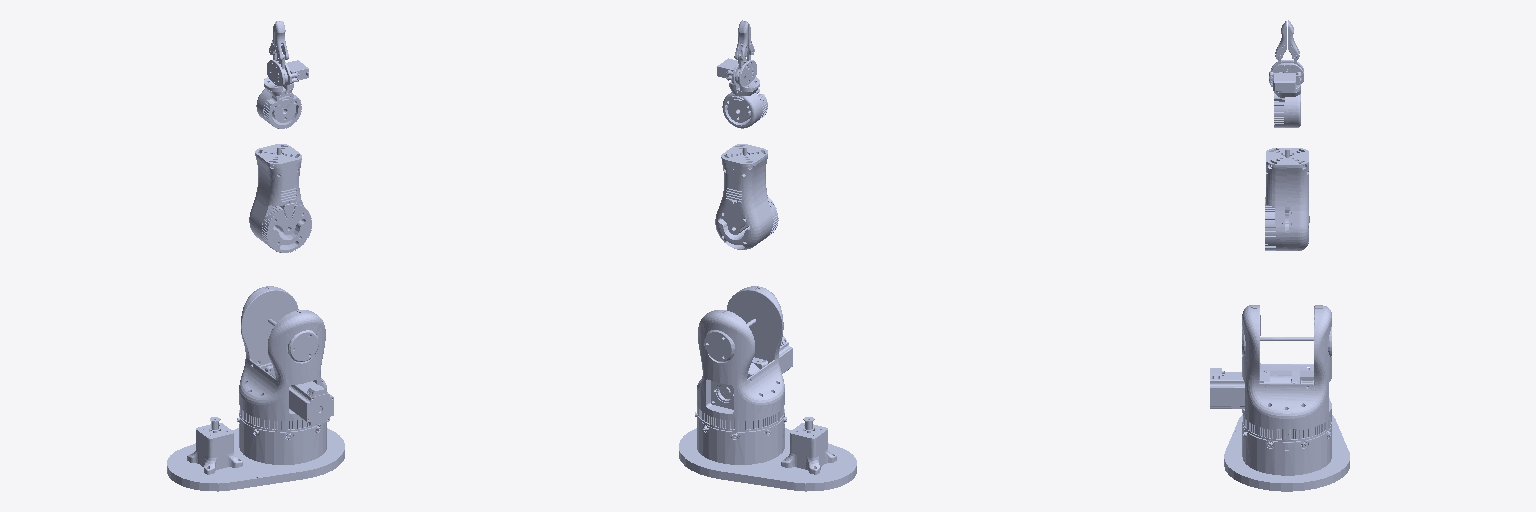
The robot description file, URDF, robot "urdf_v4":
<?xml version="1.0" encoding="utf-8" ?>
<!-- This URDF was automatically created by SolidWorks to URDF Exporter! Originally created by [author] ([email redacted]) 
     Commit Version: 1.6.0-4-g7f85cfe  Build Version: 1.6.7995.38578
     For more information, please see http://wiki.ros.org/sw_urdf_exporter -->
<robot name="urdf_v4">
    <link name="base_link">
        <inertial>
            <origin xyz="-0.0435393633147196 1.22538169028963E-05 0.0288009133501953" rpy="0 0 0" />
            <mass value="0" />
            <inertia ixx="0.00557261131322256" ixy="1.30566290520133E-06" ixz="-0.0005394752363291" iyy="0.0133501948737187" iyz="4.50573008478812E-07" izz="0.0165394809238565" />
        </inertial>
        <visual>
            <origin xyz="0 0 0" rpy="0 0 0" />
            <geometry>
                <mesh filename="package://urdf_v4/meshes/base_link.STL" />
            </geometry>
            <material name="">
                <color rgba="0.792156862745098 0.819607843137255 0.933333333333333 1" />
            </material>
        </visual>
        <collision>
            <origin xyz="0 0 0" rpy="0 0 0" />
            <geometry>
                <mesh filename="package://urdf_v4/meshes/base_link.STL" />
            </geometry>
        </collision>
    </link>
    <link name="base">
        <inertial>
            <origin xyz="-3.6422061337249E-05 -0.0118679007139265 0.0827015228083971" rpy="0 0 0" />
            <mass value="0" />
            <inertia ixx="0.0136133851140564" ixy="4.81729455017446E-06" ixz="-8.59098005598292E-06" iyy="0.00966544956416382" iyz="-0.000408881345999403" izz="0.00889732541662392" />
        </inertial>
        <visual>
            <origin xyz="0 0 0" rpy="0 0 0" />
            <geometry>
                <mesh filename="package://urdf_v4/meshes/base.STL" />
            </geometry>
            <material name="">
                <color rgba="0.792156862745098 0.819607843137255 0.933333333333333 1" />
            </material>
        </visual>
        <collision>
            <origin xyz="0 0 0" rpy="0 0 0" />
            <geometry>
                <mesh filename="package://urdf_v4/meshes/base.STL" />
            </geometry>
        </collision>
    </link>
    <joint name="joint_1" type="continuous">
        <origin xyz="0 0 0.0805626889741612" rpy="0 0 -0.0137749399473416" />
        <parent link="base_link" />
        <child link="base" />
        <axis xyz="0 0 1" />
    </joint>
    <link name="shoulder">
        <inertial>
            <origin xyz="0.000114821633251661 0.00164617005672657 0.0799412995056059" rpy="0 0 0" />
            <mass value="0" />
            <inertia ixx="0.0170861143600446" ixy="3.41444124886183E-06" ixz="-5.13579918496999E-07" iyy="0.0162696160792994" iyz="-0.000123088013545128" izz="0.00359987375721594" />
        </inertial>
        <visual>
            <origin xyz="0 0 0" rpy="0 0 0" />
            <geometry>
                <mesh filename="package://urdf_v4/meshes/shoulder.STL" />
            </geometry>
            <material name="">
                <color rgba="0.792156862745098 0.819607843137255 0.933333333333333 1" />
            </material>
        </visual>
        <collision>
            <origin xyz="0 0 0" rpy="0 0 0" />
            <geometry>
                <mesh filename="package://urdf_v4/meshes/shoulder.STL" />
            </geometry>
        </collision>
    </link>
    <joint name="joint_2" type="continuous">
        <origin xyz="0 0 0.166937311025839" rpy="0 -0.0401786148125149 0" />
        <parent link="base" />
        <child link="shoulder" />
        <axis xyz="0 1 0" />
    </joint>
    <link name="elbow">
        <inertial>
            <origin xyz="-7.46045453986488E-05 -0.000200828897961525 0.0430510848285705" rpy="0 0 0" />
            <mass value="0" />
            <inertia ixx="0.00228138046770406" ixy="6.74965200477141E-08" ixz="-6.02495655393766E-07" iyy="0.00230093015725966" iyz="-3.06257161230913E-05" izz="0.000730693959243023" />
        </inertial>
        <visual>
            <origin xyz="0 0 0" rpy="0 0 0" />
            <geometry>
                <mesh filename="package://urdf_v4/meshes/elbow.STL" />
            </geometry>
            <material name="">
                <color rgba="0.792156862745098 0.819607843137255 0.933333333333333 1" />
            </material>
        </visual>
        <collision>
            <origin xyz="0 0 0" rpy="0 0 0" />
            <geometry>
                <mesh filename="package://urdf_v4/meshes/elbow.STL" />
            </geometry>
        </collision>
    </link>
    <joint name="joint_3" type="continuous">
        <origin xyz="0 0 0.221123792803564" rpy="0 0.0401786148125149 0" />
        <parent link="shoulder" />
        <child link="elbow" />
        <axis xyz="0 1 0" />
    </joint>
    <link name="wrist_1">
        <inertial>
            <origin xyz="0.000153325816812544 0.00254377162844671 0.0552077428933766" rpy="0 0 0" />
            <mass value="0" />
            <inertia ixx="0.00069858897414835" ixy="-1.06885826113012E-06" ixz="4.79930621864447E-06" iyy="0.000573509858053779" iyz="1.12101684178498E-05" izz="0.000348806651356732" />
        </inertial>
        <visual>
            <origin xyz="0 0 0" rpy="0 0 0" />
            <geometry>
                <mesh filename="package://urdf_v4/meshes/wrist_1.STL" />
            </geometry>
            <material name="">
                <color rgba="0.792156862745098 0.819607843137255 0.933333333333333 1" />
            </material>
        </visual>
        <collision>
            <origin xyz="0 0 0" rpy="0 0 0" />
            <geometry>
                <mesh filename="package://urdf_v4/meshes/wrist_1.STL" />
            </geometry>
        </collision>
    </link>
    <joint name="joint_4" type="continuous">
        <origin xyz="0 0.000500999999999752 0.129539254362443" rpy="0 0 0" />
        <parent link="elbow" />
        <child link="wrist_1" />
        <axis xyz="0 0 1" />
    </joint>
    <link name="wrist_2">
        <inertial>
            <origin xyz="1.77688284443978E-05 0.000385812686423792 0.00382819956222746" rpy="0 0 0" />
            <mass value="0" />
            <inertia ixx="8.93595780141302E-05" ixy="-2.61043353678366E-09" ixz="-6.69999126984611E-08" iyy="0.000106318526071324" iyz="-6.19881413590019E-07" izz="7.50977321539318E-05" />
        </inertial>
        <visual>
            <origin xyz="0 0 0" rpy="0 0 0" />
            <geometry>
                <mesh filename="package://urdf_v4/meshes/wrist_2.STL" />
            </geometry>
            <material name="">
                <color rgba="0.792156862745098 0.819607843137255 0.933333333333333 1" />
            </material>
        </visual>
        <collision>
            <origin xyz="0 0 0" rpy="0 0 0" />
            <geometry>
                <mesh filename="package://urdf_v4/meshes/wrist_2.STL" />
            </geometry>
        </collision>
    </link>
    <joint name="joint_5" type="continuous">
        <origin xyz="0 0 0.098961" rpy="0 0 0" />
        <parent link="wrist_1" />
        <child link="wrist_2" />
        <axis xyz="0 1 0" />
    </joint>
    <link name="gripper_base">
        <inertial>
            <origin xyz="0.0144248332652381 -0.00140943468206361 0.729409570686998" rpy="0 0 0" />
            <mass value="0" />
            <inertia ixx="2.24885107005276E-05" ixy="2.35779600509359E-06" ixz="-2.87441674029786E-06" iyy="3.18452559004708E-05" iyz="3.57683917662539E-07" izz="3.67649419263123E-05" />
        </inertial>
        <visual>
            <origin xyz="0 0 0" rpy="0 0 0" />
            <geometry>
                <mesh filename="package://urdf_v16/meshes/gripper_base.STL" />
            </geometry>
            <material name="">
                <color rgba="0.792156862745098 0.819607843137255 0.933333333333333 1" />
            </material>
        </visual>
        <collision>
            <origin xyz="0 0 0" rpy="0 0 0" />
            <geometry>
                <mesh filename="package://urdf_v16/meshes/gripper_base.STL" />
            </geometry>
        </collision>
    </link>
    <joint name="joint_6" type="fixed">
        <origin xyz="0.00098171 -0.000501 -0.66696" rpy="0 0 0" />
        <parent link="wrist_2" />
        <child link="gripper_base" />
        <axis xyz="0 0 0" />
    </joint>
    <link name="servo_gear1">
        <inertial>
            <origin xyz="-0.0100576763756515 -0.00793429336823925 -0.000922276940248268" rpy="0 0 0" />
            <mass value="0" />
            <inertia ixx="9.89317510651496E-07" ixy="1.98722680590235E-10" ixz="-7.64270919579872E-10" iyy="1.8900131850761E-07" iyz="4.23805101340853E-08" izz="8.26162926123892E-07" />
        </inertial>
        <visual>
            <origin xyz="0 0 0" rpy="0 0 0" />
            <geometry>
                <mesh filename="package://urdf_v16/meshes/servo_gear1.STL" />
            </geometry>
            <material name="">
                <color rgba="0.792156862745098 0.819607843137255 0.933333333333333 1" />
            </material>
        </visual>
        <collision>
            <origin xyz="0 0 0" rpy="0 0 0" />
            <geometry>
                <mesh filename="package://urdf_v16/meshes/servo_gear1.STL" />
            </geometry>
        </collision>
    </link>
    <joint name="joint_7" type="continuous">
        <origin xyz="0.0093777 -0.013452 0.73231" rpy="-1.5563 0.0046149 0.0046825" />
        <parent link="gripper_base" />
        <child link="servo_gear1" />
        <axis xyz="0.99999 0 -0.0046829" />
    </joint>
    <link name="leg1">
        <inertial>
            <origin xyz="0.00929593624657088 -0.00070323766853897 0.04759195429348" rpy="0 0 0" />
            <mass value="0" />
            <inertia ixx="4.10221567193055E-06" ixy="-1.70840076438384E-09" ixz="-9.73747882338398E-09" iyy="4.17675163334443E-06" iyz="-6.39775284497913E-07" izz="5.77185004785099E-07" />
        </inertial>
        <visual>
            <origin xyz="0 0 0" rpy="0 0 0" />
            <geometry>
                <mesh filename="package://urdf_v16/meshes/leg1.STL" />
            </geometry>
            <material name="">
                <color rgba="0.792156862745098 0.819607843137255 0.933333333333333 1" />
            </material>
        </visual>
        <collision>
            <origin xyz="0 0 0" rpy="0 0 0" />
            <geometry>
                <mesh filename="package://urdf_v16/meshes/leg1.STL" />
            </geometry>
        </collision>
    </link>
    <joint name="jleg1" type="fixed">
        <origin xyz="-0.019057 -0.019896 0.0073322" rpy="1.5563 0.0046149 -0.0046825" />
        <parent link="servo_gear1" />
        <child link="leg1" />
        <axis xyz="0.99999 0 -0.0046829" />
    </joint>
    <link name="servo_gear2">
        <inertial>
            <origin xyz="4.90327258335643E-05 -0.0079342933183536 -0.000922776653681345" rpy="0 0 0" />
            <mass value="0" />
            <inertia ixx="9.89317507891527E-07" ixy="1.98725319420247E-10" ixz="-7.64271453185175E-10" iyy="1.8900131821962E-07" iyz="4.23805083000154E-08" izz="8.26162923689625E-07" />
        </inertial>
        <visual>
            <origin xyz="0 0 0" rpy="0 0 0" />
            <geometry>
                <mesh filename="package://urdf_v16/meshes/servo_gear2.STL" />
            </geometry>
            <material name="">
                <color rgba="0.792156862745098 0.819607843137255 0.933333333333333 1" />
            </material>
        </visual>
        <collision>
            <origin xyz="0 0 0" rpy="0 0 0" />
            <geometry>
                <mesh filename="package://urdf_v16/meshes/servo_gear2.STL" />
            </geometry>
        </collision>
        <ignore_collision link="servo_gear1" />
    </link>
    <joint name="joint_8" type="continuous">
        <origin xyz="-0.00062209 0.014501 0.73236" rpy="-1.5563 -0.0047509 -3.1369" />
        <parent link="gripper_base" />
        <child link="servo_gear2" />
        <axis xyz="0.99999 0 -0.0046829" />
        <mimic joint="joint_7" multiplier="1" offset="0" />
    </joint>
    <link name="leg2">
        <inertial>
            <origin xyz="-0.00877865438593095 -0.0147032394404991 0.0476765976677737" rpy="0 0 0" />
            <mass value="0" />
            <inertia ixx="4.10221667015715E-06" ixy="-1.70826774106503E-09" ixz="-9.73784470972599E-09" iyy="4.17675215863974E-06" iyz="-6.39775026488929E-07" izz="5.77185107952736E-07" />
        </inertial>
        <visual>
            <origin xyz="0 0 0" rpy="0 0 0" />
            <geometry>
                <mesh filename="package://urdf_v16/meshes/leg2.STL" />
            </geometry>
            <material name="">
                <color rgba="0.792156862745098 0.819607843137255 0.933333333333333 1" />
            </material>
        </visual>
        <collision>
            <origin xyz="0 0 0" rpy="0 0 0" />
            <geometry>
                <mesh filename="package://urdf_v16/meshes/leg2.STL" />
            </geometry>
        </collision>
    </link>
    <joint name="jleg2" type="fixed">
        <origin xyz="0.0091903 -0.019693 0.021245" rpy="1.5563 0.0046149 -0.0046825" />
        <parent link="servo_gear2" />
        <child link="leg2" />
        <axis xyz="0 0 0" />
    </joint>
    <transmission name="trans_joint_1">
        <type>transmission_interface/SimpleTransmission</type>
        <joint name="joint_1">
            <hardwareInterface>hardware_interface/EffortJointInterface</hardwareInterface>
        </joint>
        <actuator name="joint_1_motor">
            <hardwareInterface>hardware_interface/EffortJointInterface</hardwareInterface>
            <mechanicalReduction>1</mechanicalReduction>
        </actuator>
    </transmission>
    <transmission name="trans_joint_2">
        <type>transmission_interface/SimpleTransmission</type>
        <joint name="joint_2">
            <hardwareInterface>hardware_interface/EffortJointInterface</hardwareInterface>
        </joint>
        <actuator name="joint_2_motor">
            <hardwareInterface>hardware_interface/EffortJointInterface</hardwareInterface>
            <mechanicalReduction>1</mechanicalReduction>
        </actuator>
    </transmission>
    <transmission name="trans_joint_3">
        <type>transmission_interface/SimpleTransmission</type>
        <joint name="joint_3">
            <hardwareInterface>hardware_interface/EffortJointInterface</hardwareInterface>
        </joint>
        <actuator name="joint_3_motor">
            <hardwareInterface>hardware_interface/EffortJointInterface</hardwareInterface>
            <mechanicalReduction>1</mechanicalReduction>
        </actuator>
    </transmission>
    <transmission name="trans_joint_4">
        <type>transmission_interface/SimpleTransmission</type>
        <joint name="joint_4">
            <hardwareInterface>hardware_interface/EffortJointInterface</hardwareInterface>
        </joint>
        <actuator name="joint_4_motor">
            <hardwareInterface>hardware_interface/EffortJointInterface</hardwareInterface>
            <mechanicalReduction>1</mechanicalReduction>
        </actuator>
    </transmission>
    <transmission name="trans_joint_5">
        <type>transmission_interface/SimpleTransmission</type>
        <joint name="joint_5">
            <hardwareInterface>hardware_interface/EffortJointInterface</hardwareInterface>
        </joint>
        <actuator name="joint_5_motor">
            <hardwareInterface>hardware_interface/EffortJointInterface</hardwareInterface>
            <mechanicalReduction>1</mechanicalReduction>
        </actuator>
    </transmission>
    <transmission name="trans_joint_7">
        <type>transmission_interface/SimpleTransmission</type>
        <joint name="joint_7">
            <hardwareInterface>hardware_interface/EffortJointInterface</hardwareInterface>
        </joint>
        <actuator name="joint_7_motor">
            <hardwareInterface>hardware_interface/EffortJointInterface</hardwareInterface>
            <mechanicalReduction>1</mechanicalReduction>
        </actuator>
    </transmission>
    <transmission name="trans_joint_8">
        <type>transmission_interface/SimpleTransmission</type>
        <joint name="joint_8">
            <hardwareInterface>hardware_interface/EffortJointInterface</hardwareInterface>
        </joint>
        <actuator name="joint_8_motor">
            <hardwareInterface>hardware_interface/EffortJointInterface</hardwareInterface>
            <mechanicalReduction>1</mechanicalReduction>
        </actuator>
    </transmission>
    <gazebo>
        <plugin name="gazebo_ros_control" filename="libgazebo_ros_control.so">
            <robotNamespace>/</robotNamespace>
        </plugin>
    </gazebo>
</robot>

--- What the picture shows (computed from the rendered views, not written in the file) ---
Views: 3 orthographic renders of the robot side by side, from view 1: azimuth 30°, elevation 25°; view 2: azimuth 150°, elevation 25°; view 3: azimuth 270°, elevation 25°.
Robot: urdf_v4 — 11 links, 10 joints (7 continuous, 3 fixed); root link base_link; default pose: all joints at 0.
Links seen in each view (by area): view 1: base, base_link, elbow, wrist_2, gripper_base; view 2: base, base_link, elbow, wrist_2, gripper_base; view 3: base, base_link, elbow, gripper_base, wrist_2.
Boxes of the visible links, <box> form: base: <box>239,286,333,431</box>; base_link: <box>167,415,344,491</box>; elbow: <box>249,144,311,252</box>; wrist_2: <box>256,87,301,128</box>; gripper_base: <box>264,59,308,91</box>; base: <box>697,286,792,431</box>; base_link: <box>679,412,856,491</box>; elbow: <box>715,144,778,249</box>; wrist_2: <box>722,87,767,128</box>; gripper_base: <box>717,58,759,91</box>; base: <box>1210,305,1331,441</box>; base_link: <box>1224,414,1349,491</box>; elbow: <box>1265,148,1309,250</box>; gripper_base: <box>1269,60,1303,92</box>; wrist_2: <box>1274,90,1300,127</box>.
Size in the robot's own frame: 0.3415 by 0.2505 by 0.8669 metres.
9 mesh visuals loaded from 11 distinct referenced files (9 binary STL); not drawn: 2 (reference not matched to a file when rendering).